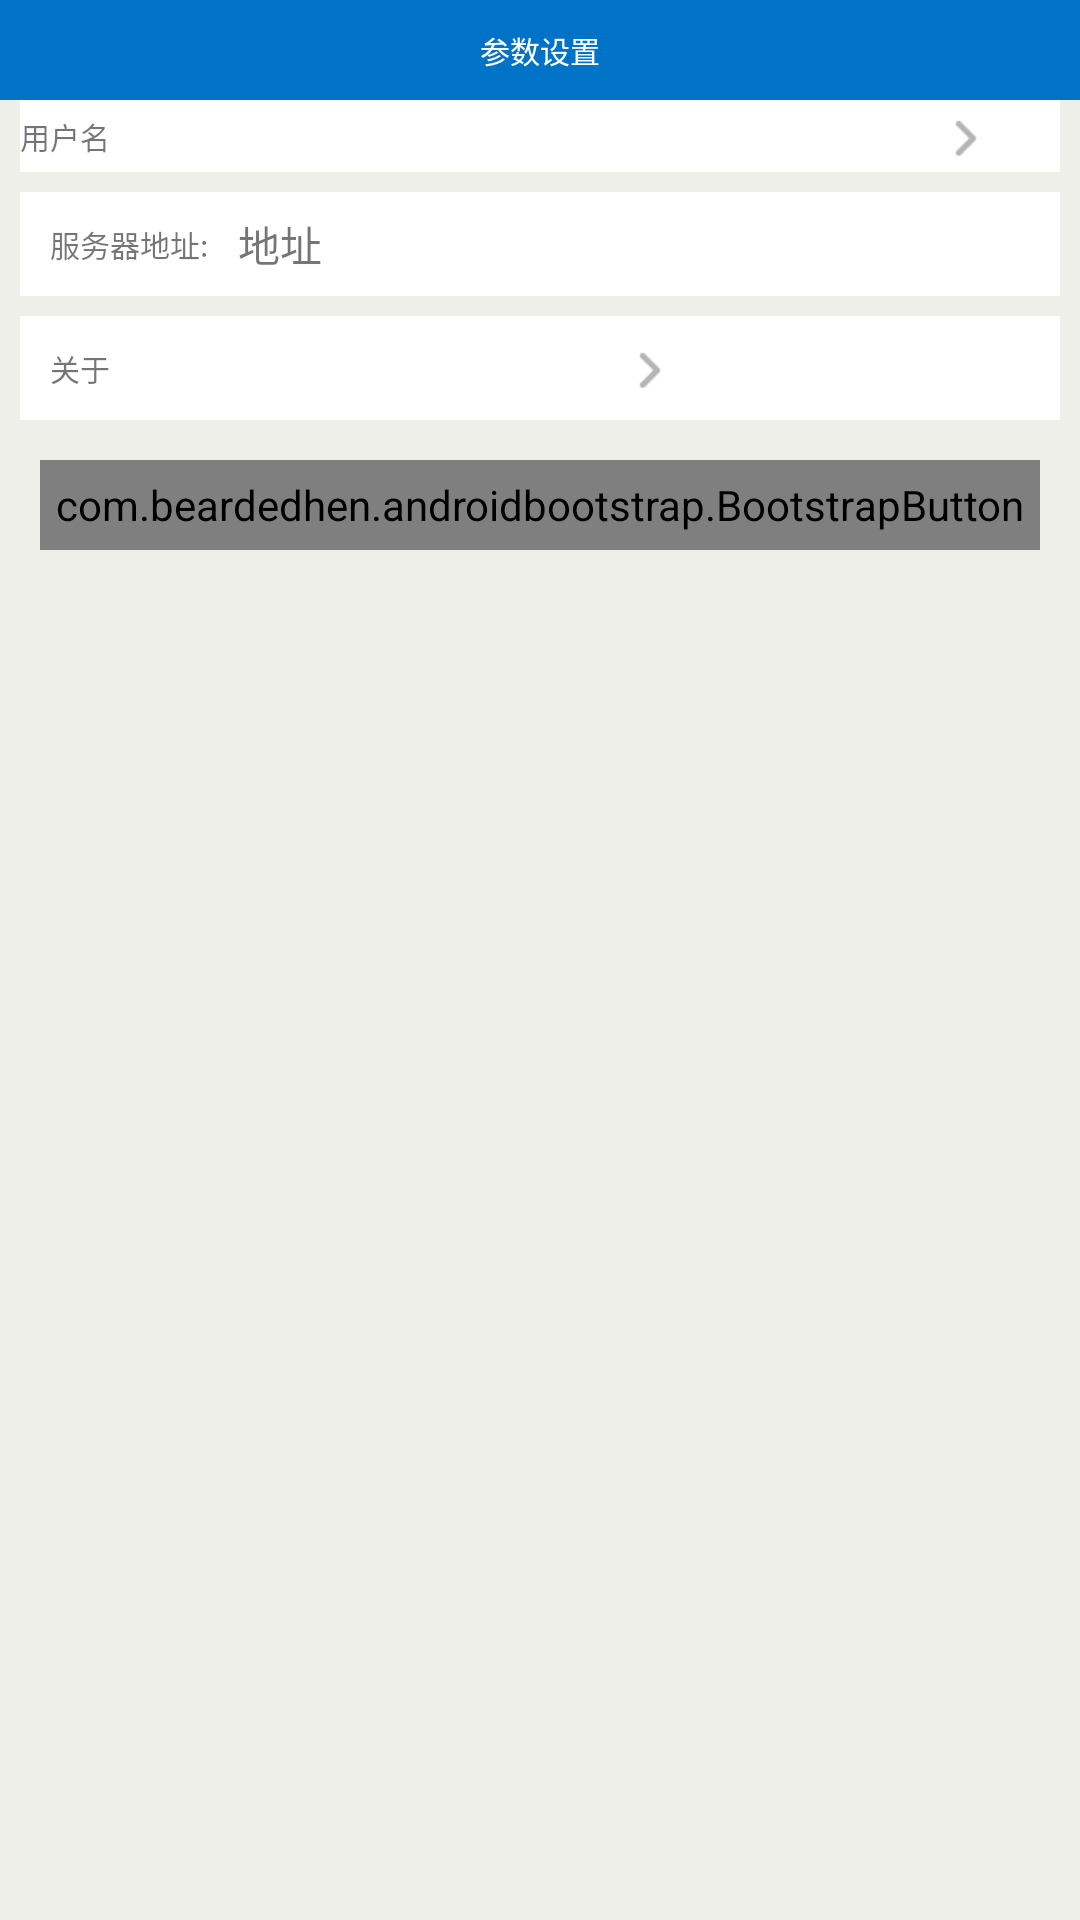

Locate icon controls on the screen. Image size 1080×1920, boxes as [left=x1, top=y1, right=x2, bottom=y2].
arrow right: [left=956, top=121, right=976, bottom=156], [left=640, top=353, right=660, bottom=388]
